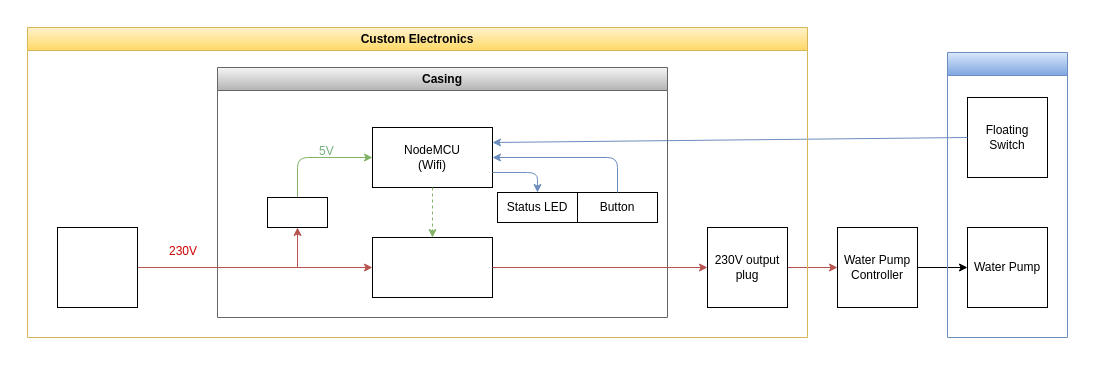
Some shapes in this 1114 by 374 pixel diagram are drawn without their labels. The box of each missing label's shape, as (x1, y1, x2, y2) in pixels:
230V input plug: (56, 226, 138, 308)
AC/DC: (266, 196, 328, 228)
Relais: (372, 236, 492, 298)
Water Tank: (946, 52, 1068, 338)
